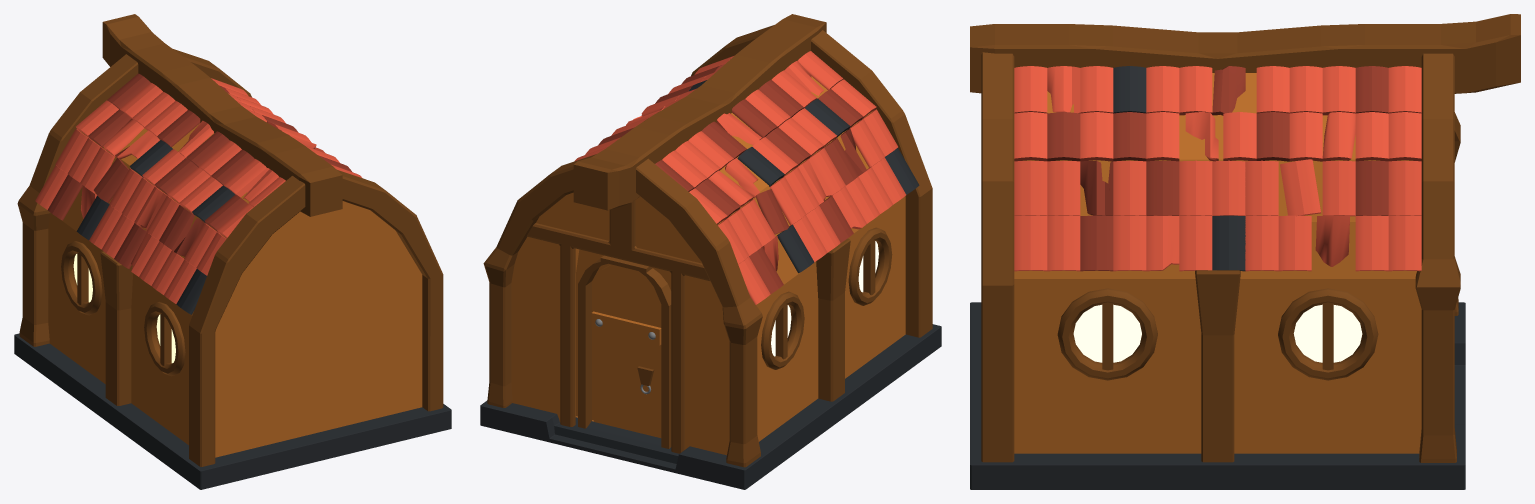
The model's file is lowhouse_1.fbx.
3 renders of one model, left to right at view 1: azimuth 30°, elevation 25°; view 2: azimuth 150°, elevation 25°; view 3: azimuth 270°, elevation 25°, orthographic. The views are drawn at different scales.
Visible parts, largest first — view 1: Cube, Cube.002, Cube.006, Cube.001, Cube.004, Cube.003, SuperToroid.003, SuperToroid.004, Cube.104, Cube.092, Cube.064, Cube.087 (+44 smaller); view 2: Cube, Cube.002, Cube.004, Cube.006, Cube.001, Cube.008, Cube.007, Cube.003, SuperToroid.003, SuperToroid.004, Cube.102, Cube.086 (+46 smaller); view 3: Cube, Cube.001, Cube.006, Cube.004, Cube.002, Cube.003, Cube.109, SuperToroid.002, SuperToroid.001, Cube.053, Cube.045, Cube.046 (+47 smaller).
Part boxes in pixels (x1,y1,x2,y2): Cube: (48,123,422,457); Cube.002: (189,170,443,466); Cube.006: (14,333,451,489); Cube.001: (102,14,342,216); Cube.004: (17,49,251,346); Cube.003: (100,251,132,405); SuperToroid.003: (61,241,102,315); SuperToroid.004: (144,301,185,376); Cube.104: (48,174,82,220); Cube.092: (93,158,128,202); Cube.064: (157,110,200,147); Cube.087: (80,147,114,193); Cube: (511,76,905,455); Cube.002: (526,25,932,453); Cube.004: (483,154,762,467); Cube.006: (480,324,941,489); Cube.001: (573,14,826,210); Cube.008: (591,264,661,437); Cube.007: (578,255,671,448); Cube.003: (816,238,850,401); SuperToroid.003: (761,291,804,369); SuperToroid.004: (848,227,892,305); Cube.102: (777,224,814,273); Cube.086: (769,176,806,225); Cube: (1014,73,1421,453); Cube.001: (970,14,1520,93); Cube.006: (970,302,1465,489); Cube.004: (1415,53,1460,462); Cube.002: (981,52,1014,462); Cube.003: (1195,270,1240,462); Cube.109: (1073,304,1362,362); SuperToroid.002: (1057,288,1157,380); SuperToroid.001: (1278,288,1378,380); Cube.053: (1245,215,1278,271); Cube.045: (1014,215,1047,271); Cube.046: (1047,215,1080,271).
Size of the model in its own units: 700 by 774 by 1000.
